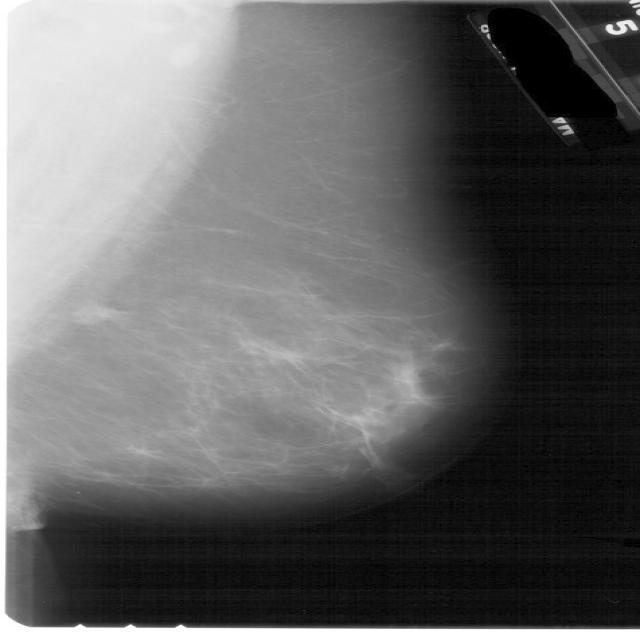tumour: (66, 301, 121, 326)
